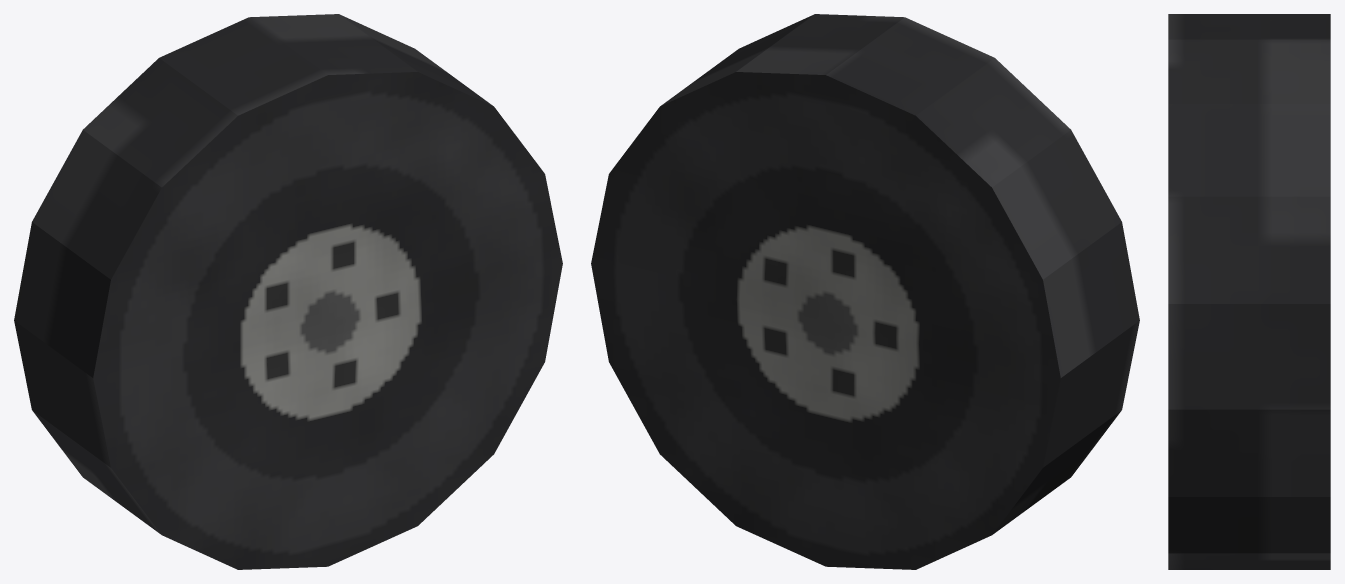
File: SpareTire.fbx
The picture shows the model from 3 angles, left to right: view 1: azimuth 30°, elevation 25°; view 2: azimuth 150°, elevation 25°; view 3: azimuth 270°, elevation 25°; orthographic projection. The views are drawn at different scales.
Visible parts, largest first — view 1: SpareTire; view 2: SpareTire; view 3: SpareTire.
Boxes of the visible parts, box(x1,y1,x2,y2) form: SpareTire: box(14, 14, 562, 569); SpareTire: box(591, 14, 1139, 569); SpareTire: box(1168, 14, 1330, 569).
Size of the model in its own units: 0.96 by 0.96 by 0.28.
